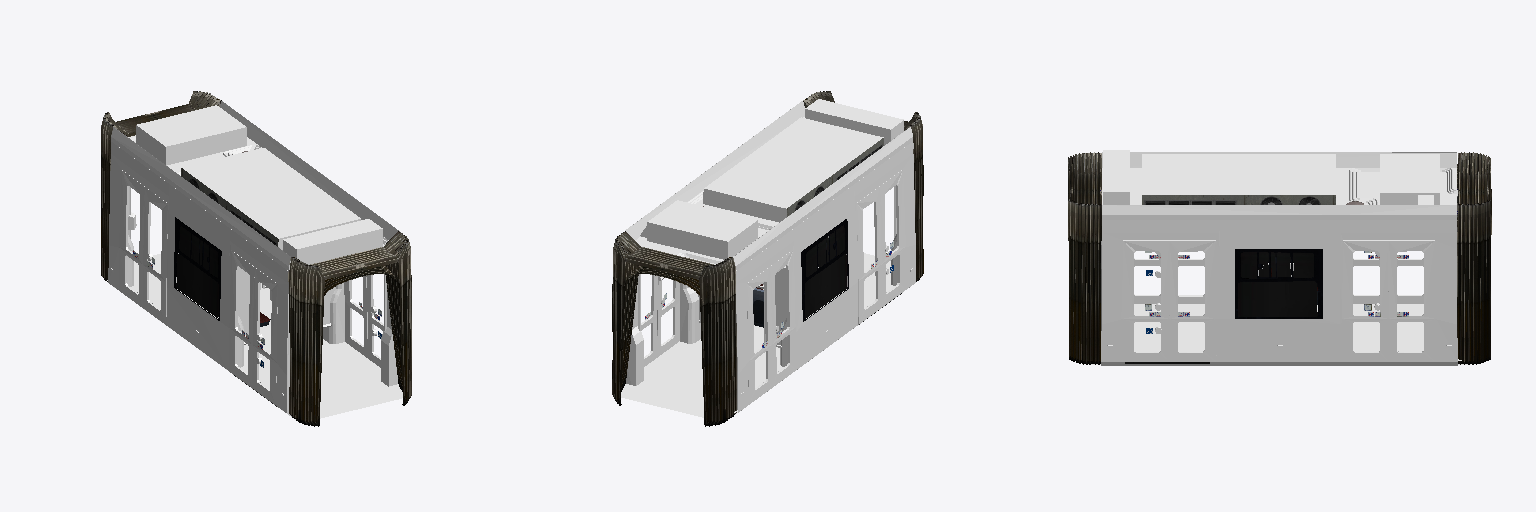
The picture shows the model from 3 angles: view 1: azimuth 30°, elevation 25°; view 2: azimuth 150°, elevation 25°; view 3: azimuth 270°, elevation 25°; orthographic projection.
Visible parts, largest first — view 1: body, salon, d_rl, d_rr, okno_int, d_lr, steklo, d_ll; view 2: body, salon, d_rl, d_rr, okno_int, d_ll, d_lr, steklo; view 3: body, d_ll, d_lr, okno_int, salon, d_rl, d_rr.
Boxes of the visible parts, x1=… form: body: x1=101, y1=91, x2=411, y2=426; salon: x1=107, y1=186, x2=398, y2=401; d_rl: x1=143, y1=187, x2=277, y2=404; d_rr: x1=119, y1=170, x2=254, y2=387; okno_int: x1=174, y1=217, x2=221, y2=320; d_lr: x1=344, y1=276, x2=367, y2=357; steklo: x1=238, y1=267, x2=335, y2=334; d_ll: x1=366, y1=275, x2=383, y2=367; body: x1=612, y1=91, x2=923, y2=426; salon: x1=626, y1=186, x2=897, y2=412; d_rl: x1=770, y1=170, x2=905, y2=386; d_rr: x1=747, y1=186, x2=881, y2=404; okno_int: x1=801, y1=219, x2=848, y2=321; d_ll: x1=657, y1=280, x2=679, y2=357; d_lr: x1=641, y1=275, x2=658, y2=366; steklo: x1=698, y1=236, x2=828, y2=344; body: x1=1068, y1=150, x2=1491, y2=365; d_ll: x1=1121, y1=240, x2=1388, y2=361; d_lr: x1=1169, y1=240, x2=1436, y2=361; okno_int: x1=1235, y1=249, x2=1322, y2=318; salon: x1=1100, y1=188, x2=1461, y2=360; d_rl: x1=1134, y1=251, x2=1379, y2=303; d_rr: x1=1178, y1=255, x2=1423, y2=303.
Size of the model in its own units: 2.54 by 3.4 by 7.86.
Materials: 66 (13 with a texture image).